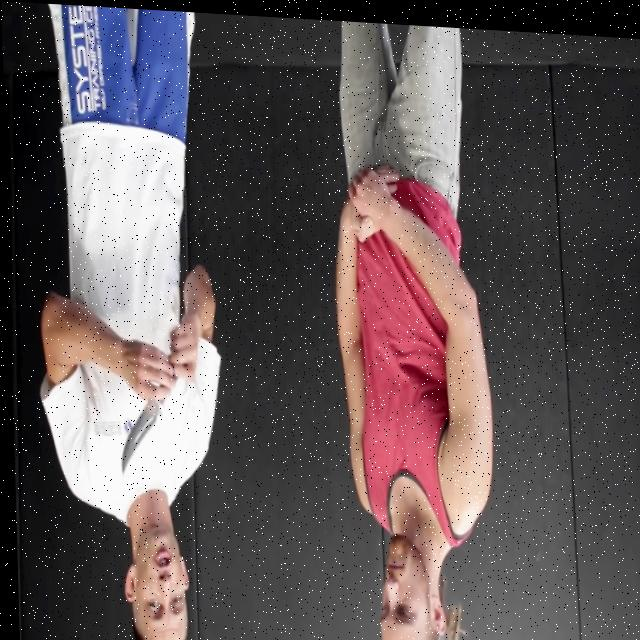knife: (115, 393, 163, 477)
